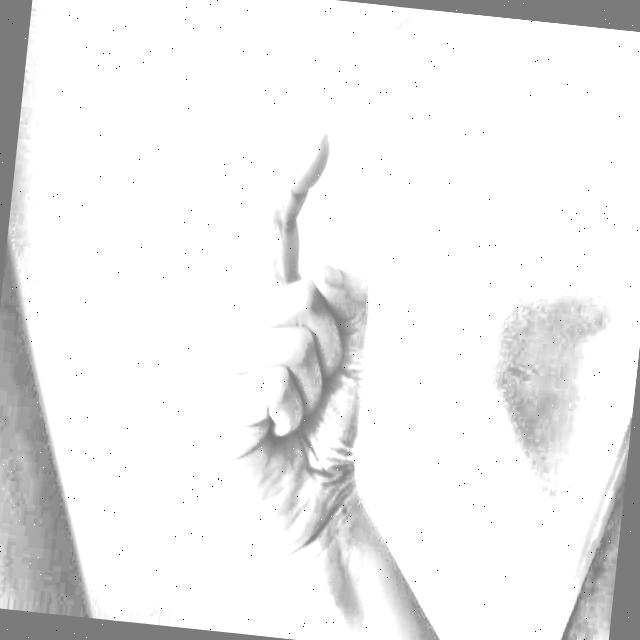E: (174, 105, 446, 548)
